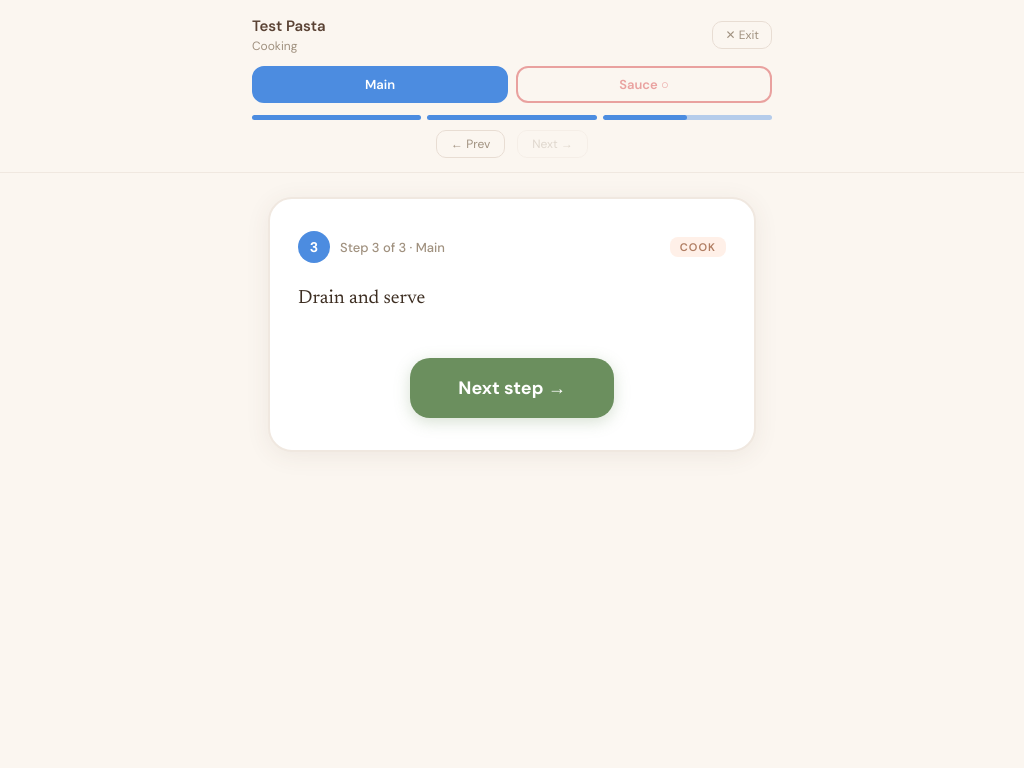
it: CookingView › step review navigation › clicking Prev then Next returns to current step
The width and height of the screenshot is (1024, 768).
Click the button "← Prev". click: (471, 144)
box: [436,130,505,158]
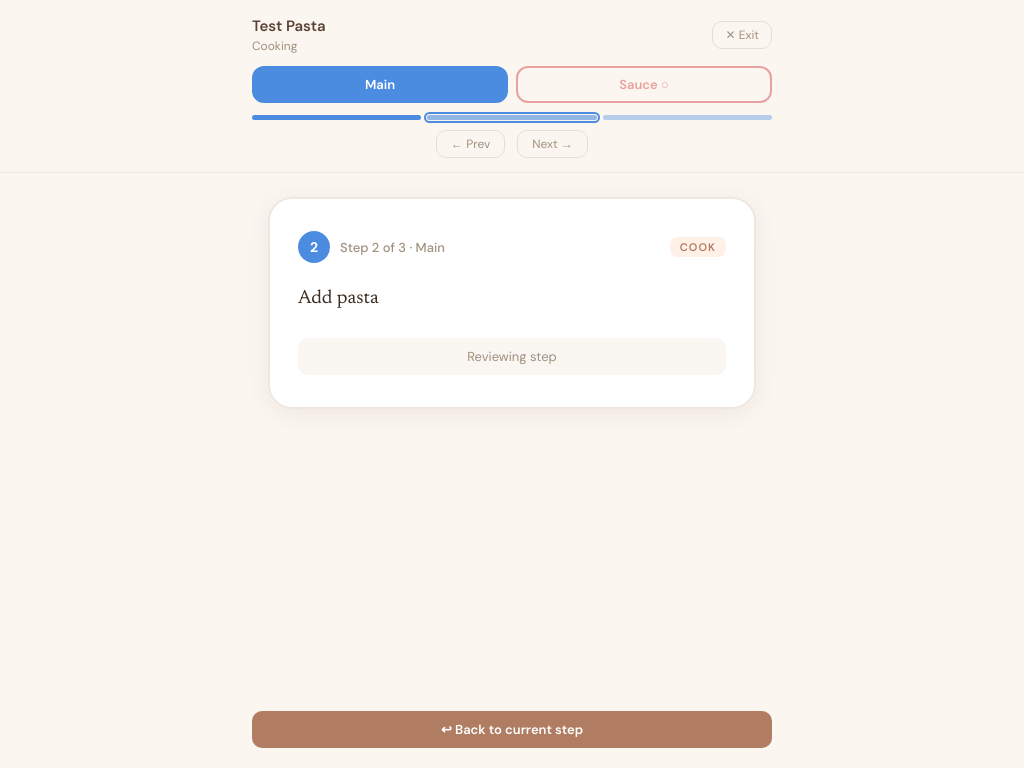
Now the text "Add pasta" is shown, box [298,289,379,308]
Click the button "Next →". click: (553, 144)
box: [517,130,588,158]
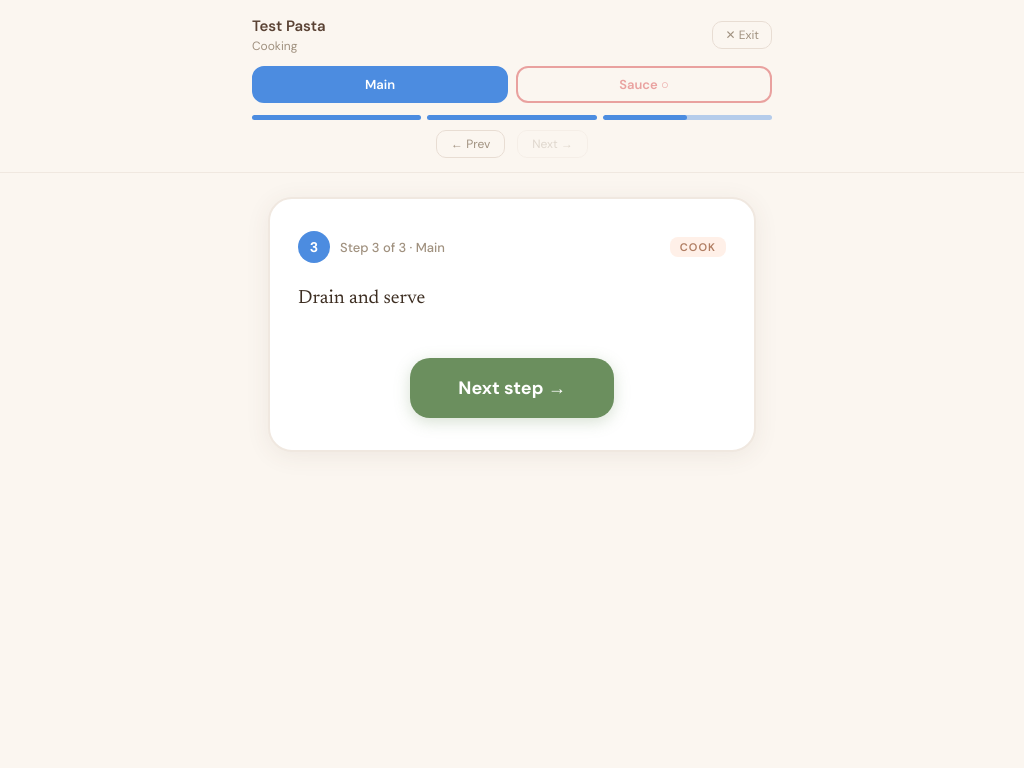
Now the text "Drain and serve" is shown, box [298,289,425,308]
